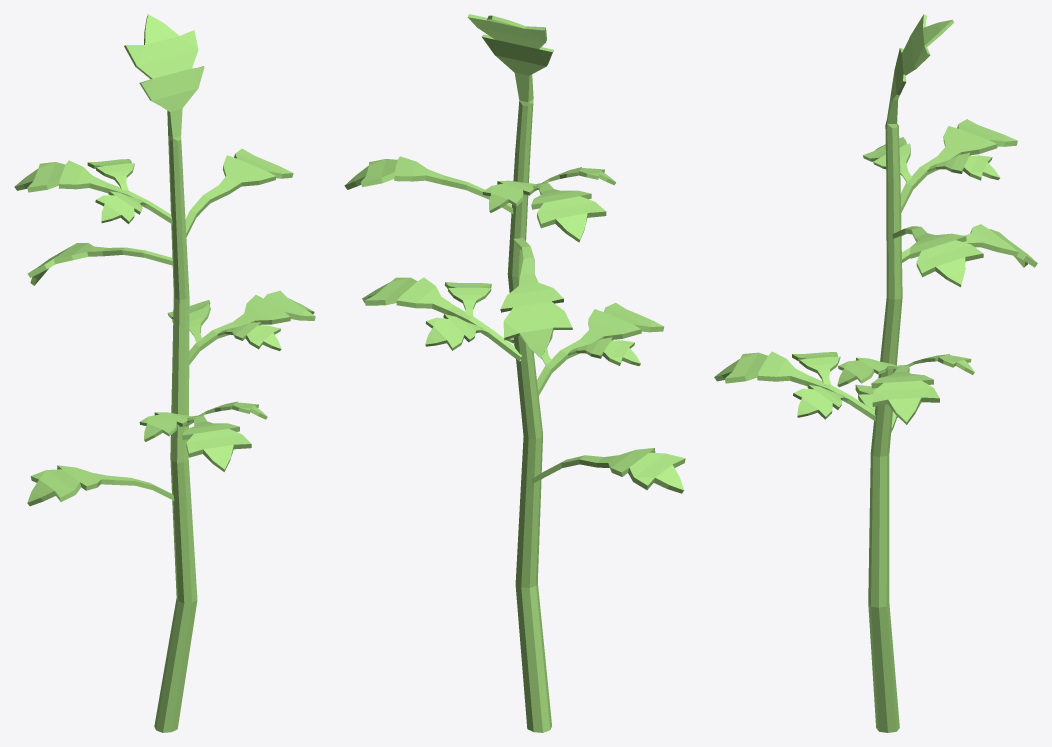
The model's file is tomato_3.glb.
3 renders of one model, left to right at view 1: azimuth 30°, elevation 25°; view 2: azimuth 150°, elevation 25°; view 3: azimuth 270°, elevation 25°, orthographic. The views are drawn at different scales.
Parts seen in each view (by area): view 1: Tomato_3; view 2: Tomato_3; view 3: Tomato_3.
Boxes of the visible parts, x1,y1,x2,y2 form: Tomato_3: (14,14,315,732); Tomato_3: (344,14,685,732); Tomato_3: (714,14,1037,732).
Size of the model in its own units: 0.6408 by 1.43 by 0.5863.
